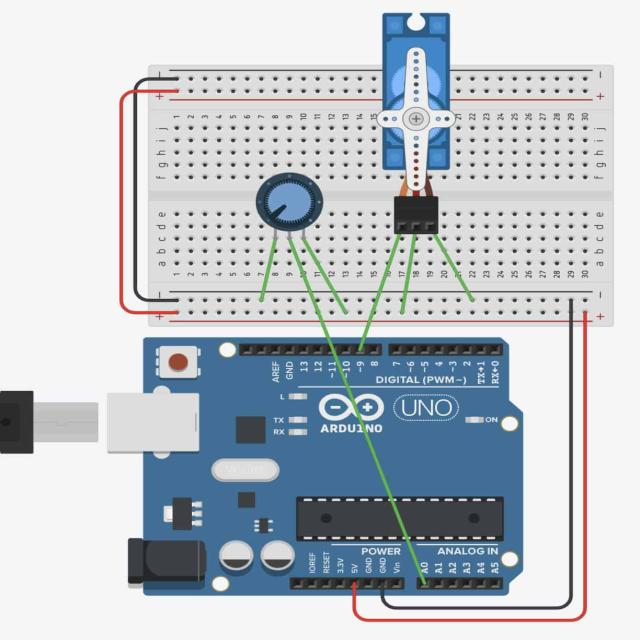servomotor: (340, 0, 493, 185)
